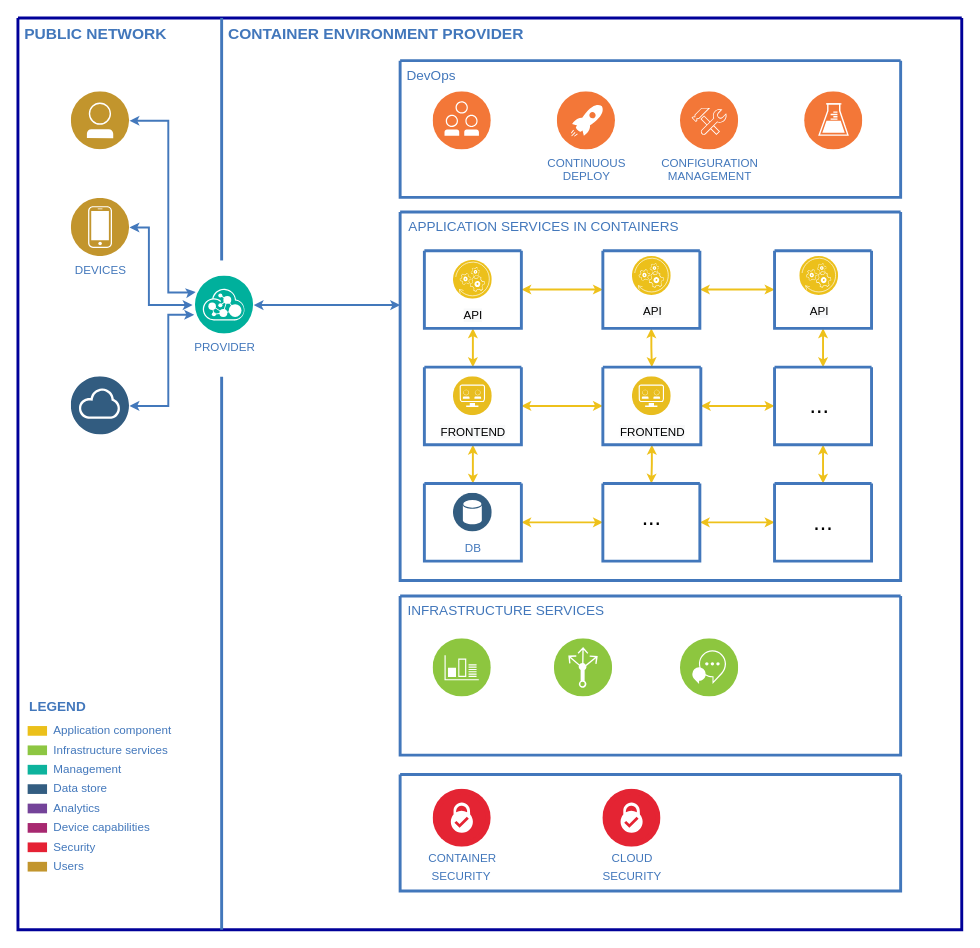
This 980x948 diagram has some shape labels left out. Each missing label, with the box of its shape:
3rd Party API: (71, 376, 129, 435)
COLLABORATIVE DEVELOPMENT: (433, 91, 491, 149)
CONTINUOUS TESTING: (804, 91, 862, 149)
INTERSERVICE COMMUNICATION: (680, 638, 738, 696)
LOAD BALANCING ROUTING: (554, 638, 612, 696)
MONITORING & LOGGING: (433, 638, 491, 696)
USER: (71, 91, 129, 149)
